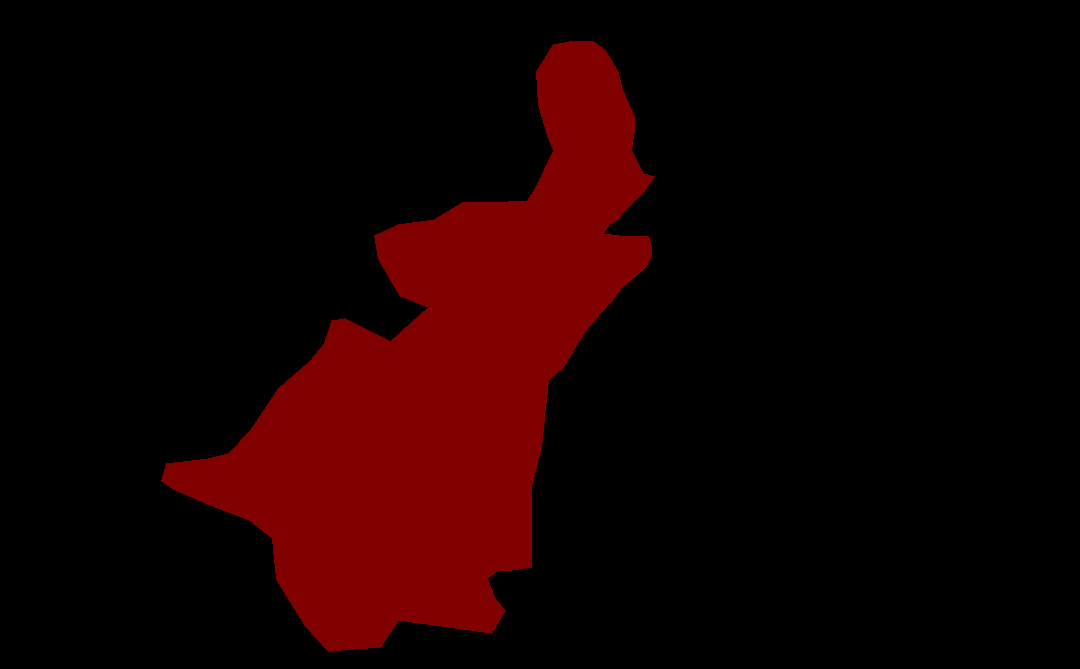fire: (161, 41, 654, 651)
